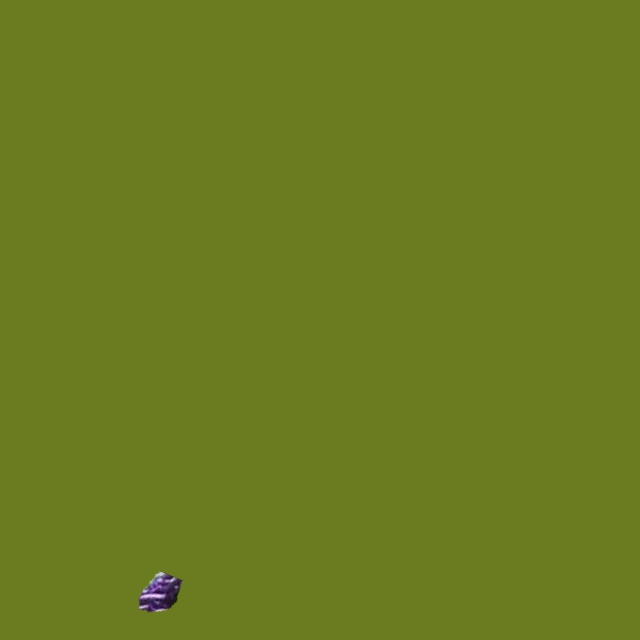passion flower: (138, 571, 183, 611)
